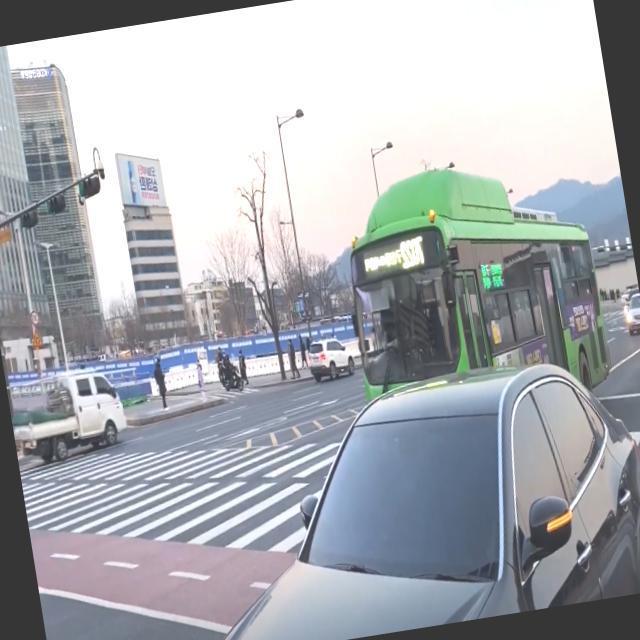bus-number: (399, 234, 427, 270)
